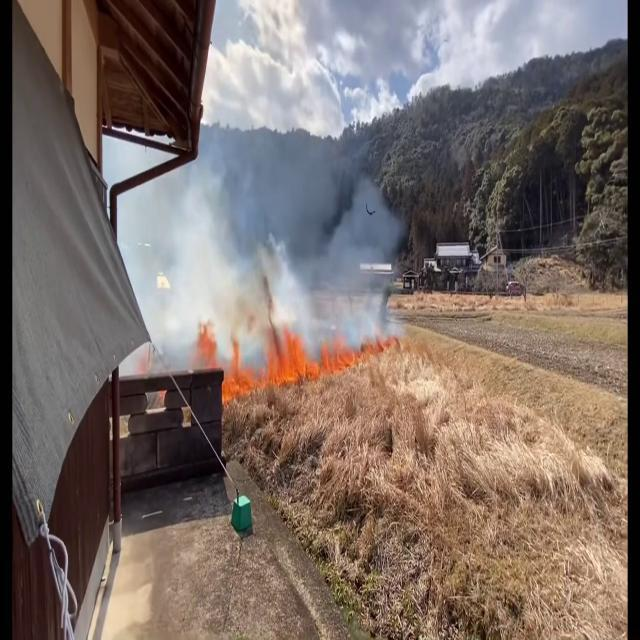Fire: (196, 316, 327, 396), (330, 322, 432, 374)
Smoke: (162, 77, 410, 366)
